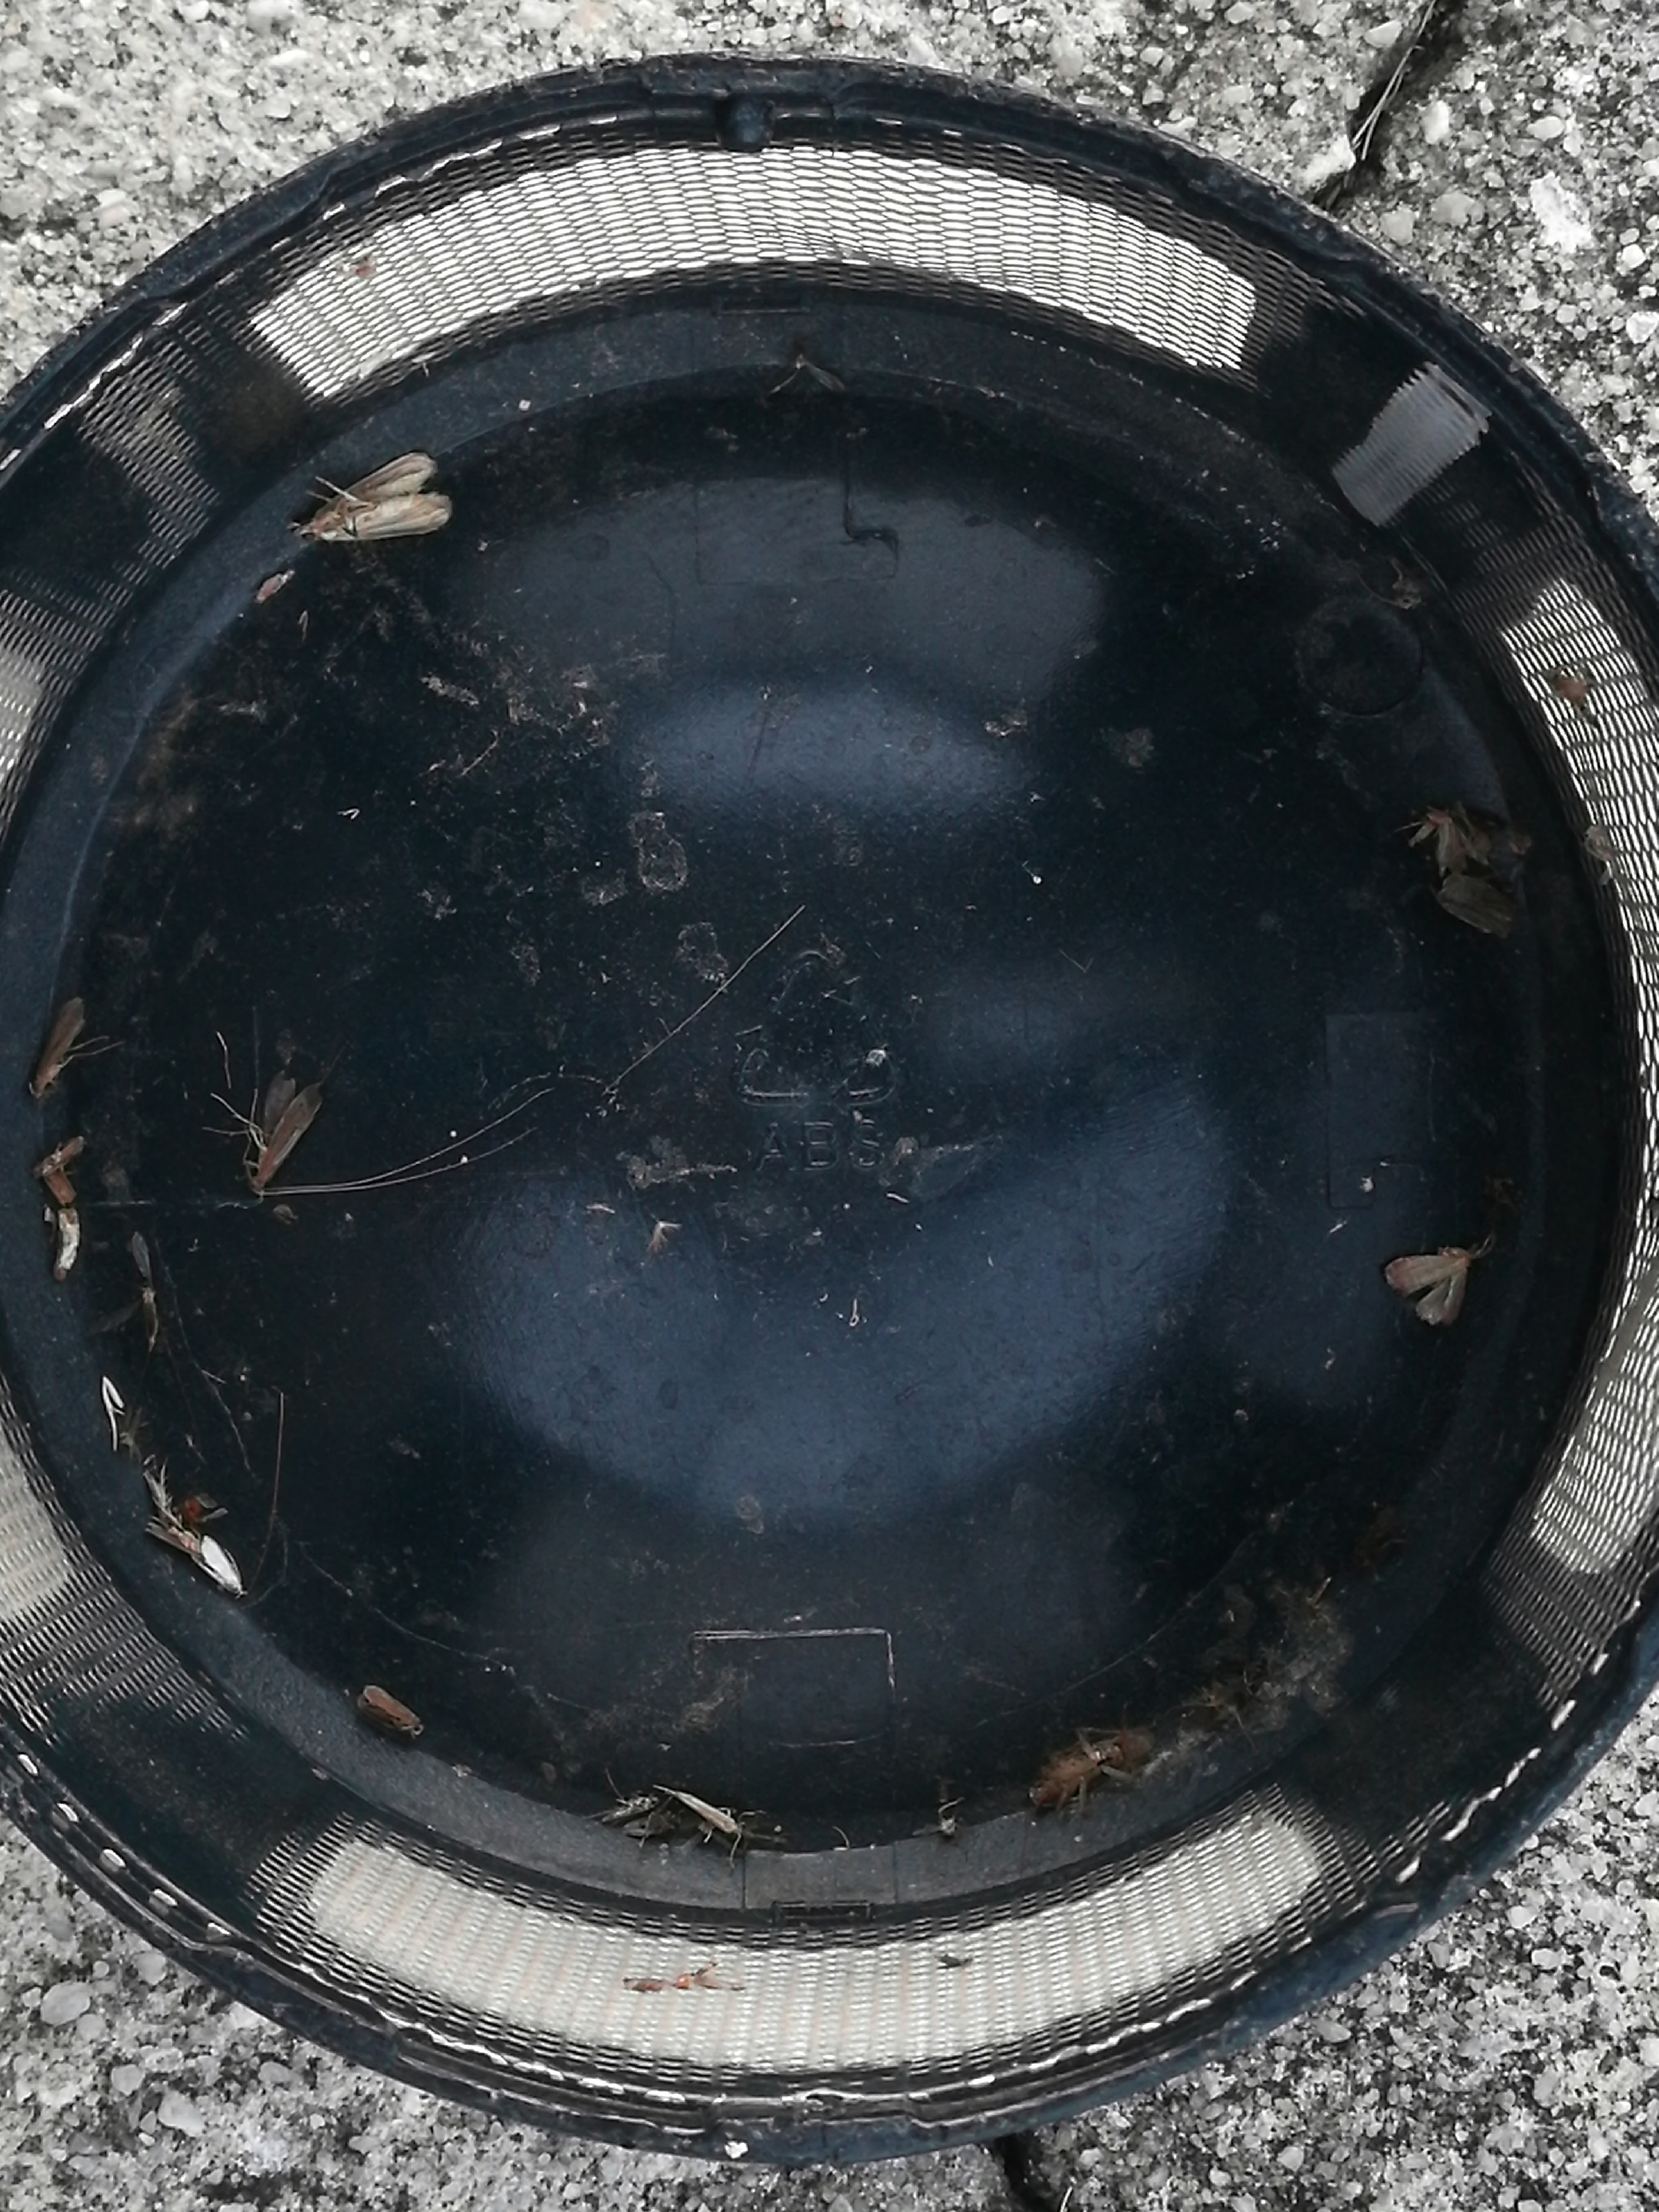mosquito: (251, 1075, 324, 1197), (33, 1000, 84, 1090), (361, 1688, 423, 1738), (202, 1534, 249, 1595), (145, 1521, 200, 1552), (603, 1794, 659, 1822)
moth: (286, 448, 450, 540), (1385, 1247, 1469, 1322)
